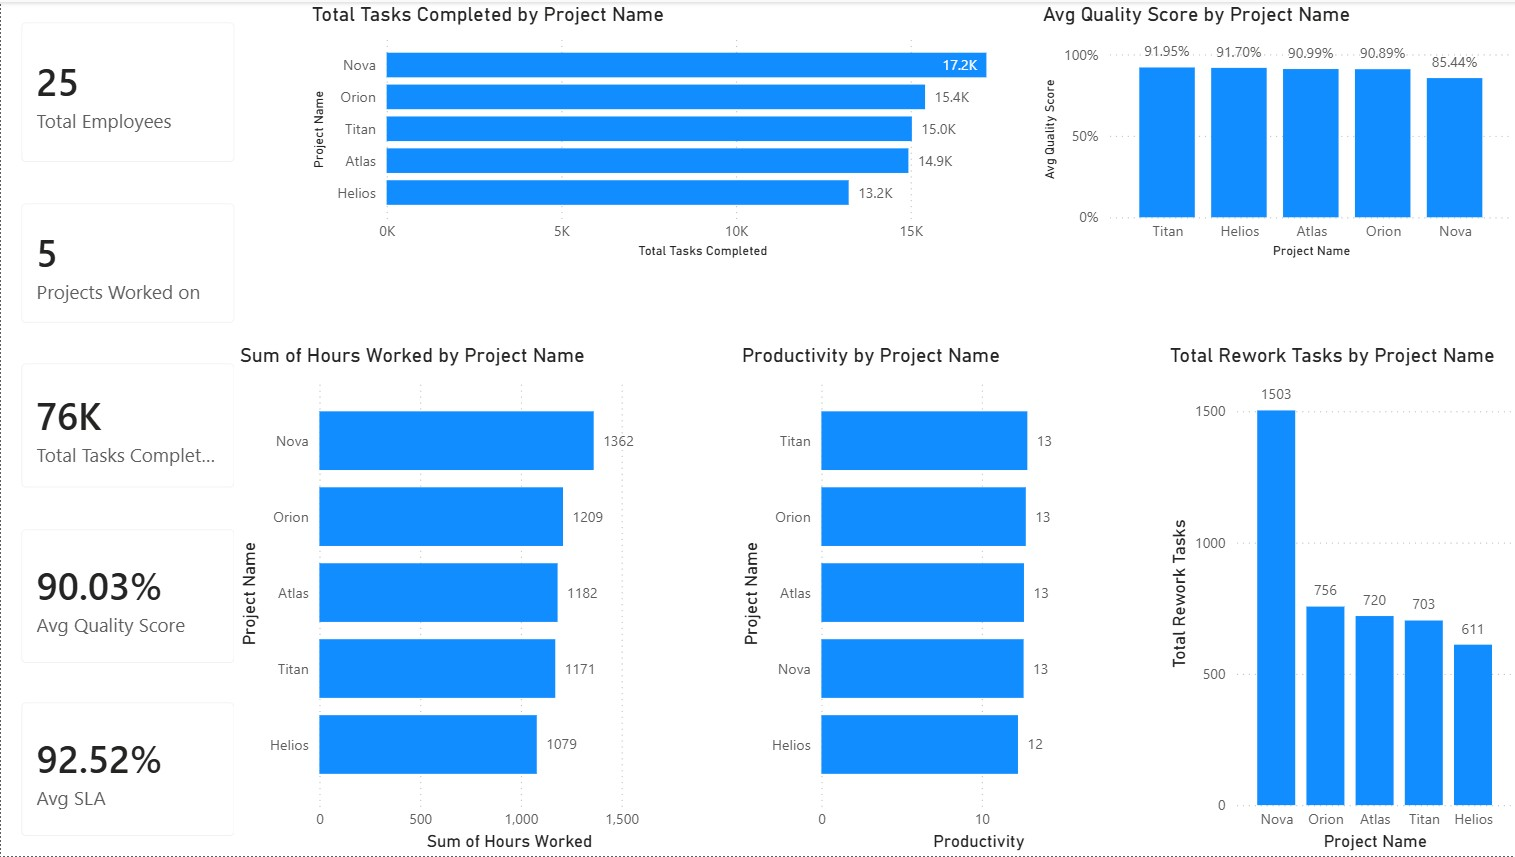

This screenshot's page, from the dashboard's own definition file:
{"tool":"powerbi","page":{"name":"Project Performance Analysis","canvas":[1280,720],"ordinal":0},"visuals":[{"type":"cardVisual","fields":{"Data":["Fact_Performance.Total Active Projects"]},"box":[0,152.3,214.2,135.5],"z":1},{"type":"cardVisual","fields":{"Data":["Dim_Employee.count of emp"]},"box":[0,0,214.2,152.3],"z":2},{"type":"cardVisual","fields":{"Data":["Fact_Performance.Total Tasks Completed"]},"box":[0,287.7,214.2,139.7],"z":3},{"type":"cardVisual","fields":{"Data":["Fact_Performance.Avg Quality Score"]},"box":[0,427.4,214.2,147],"z":4},{"type":"cardVisual","fields":{"Data":["Fact_Performance.Avg SLA"]},"box":[0,573.3,214.2,147],"z":5},{"type":"barChart","fields":{"Category":["Dim_Project.Project Name"],"Y":["Fact_Performance.Total Tasks Completed"]},"box":[257.3,0,616.4,220.5],"z":6},{"type":"barChart","fields":{"Category":["Dim_Project.Project Name"],"Y":["Sum(Fact_Performance.Hours Worked)"]},"box":[196.4,287.7,412.7,432.6],"z":7},{"type":"clusteredColumnChart","fields":{"Category":["Dim_Project.Project Name"],"Y":["Fact_Performance.Avg Quality Score"]},"box":[873.6,0,406.4,220.5],"z":8},{"type":"columnChart","fields":{"Y":["Fact_Performance.Total Rework Tasks"],"Category":["Dim_Project.Project Name"]},"box":[980.7,287.7,299.3,432.6],"z":9},{"type":"barChart","fields":{"Y":["Fact_Performance.Productivity"],"Category":["Dim_Project.Project Name"]},"box":[619.5,287.7,349.7,432.6],"z":10}]}

Visuals, with their boxes in screenshot pixels (x1, y1, x2, y2), scaled from the page's 1280x720 canvas onto the 1515x857 screenshot:
cardVisual - Fact_Performance.Total Active Projects: box(0, 181, 254, 343)
cardVisual - Dim_Employee.count of emp: box(0, 0, 254, 181)
cardVisual - Fact_Performance.Total Tasks Completed: box(0, 342, 254, 509)
cardVisual - Fact_Performance.Avg Quality Score: box(0, 509, 254, 684)
cardVisual - Fact_Performance.Avg SLA: box(0, 682, 254, 856)
barChart - Dim_Project.Project Name x Fact_Performance.Total Tasks Completed: box(305, 0, 1034, 262)
barChart - Dim_Project.Project Name x Sum(Fact_Performance.Hours Worked): box(232, 342, 721, 856)
clusteredColumnChart - Dim_Project.Project Name x Fact_Performance.Avg Quality Score: box(1034, 0, 1514, 262)
columnChart - Fact_Performance.Total Rework Tasks x Dim_Project.Project Name: box(1161, 342, 1514, 856)
barChart - Fact_Performance.Productivity x Dim_Project.Project Name: box(733, 342, 1147, 856)
